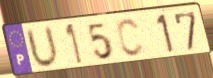1: (64, 22, 85, 66), (156, 13, 176, 56)
5: (88, 21, 115, 62)
7: (173, 10, 198, 52)
C: (115, 17, 147, 59)
U: (23, 24, 61, 71)
